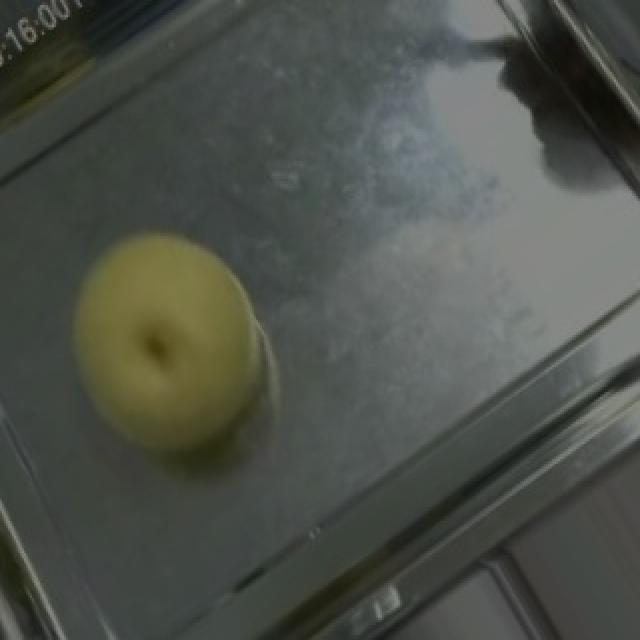Fruit: (26, 186, 320, 486)
